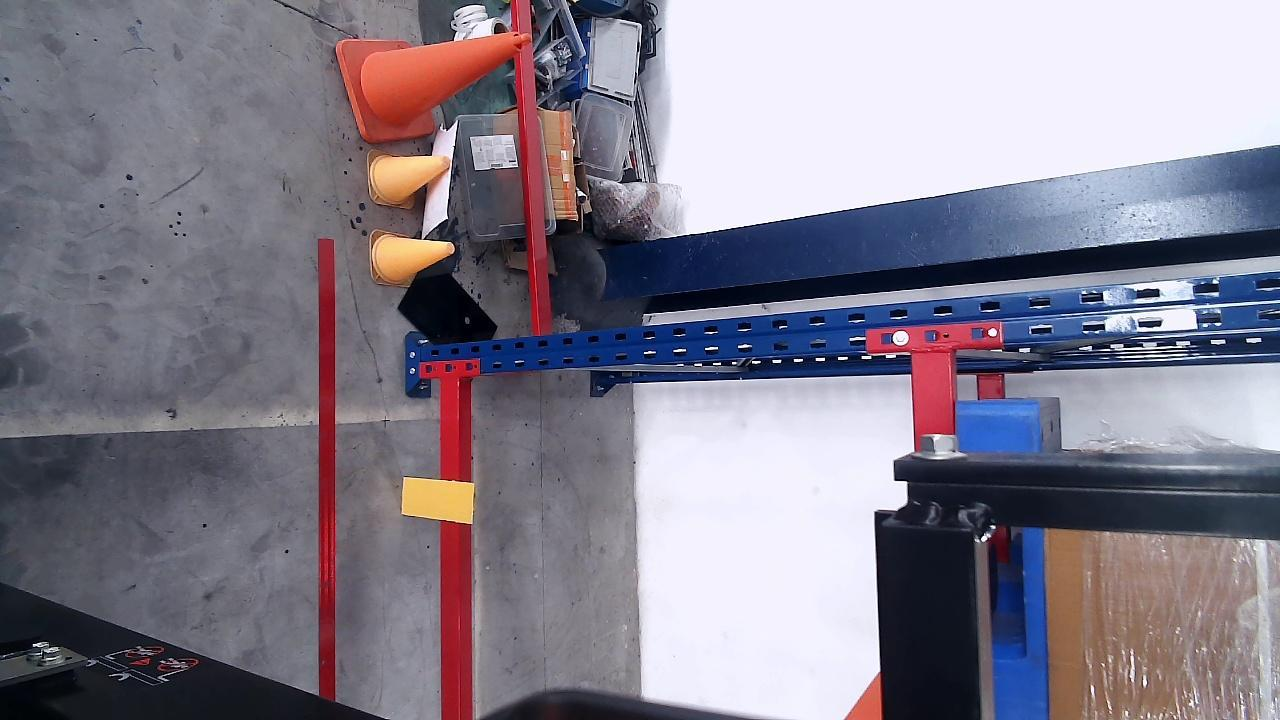h_rack: (438, 375, 471, 719)
orange_strip: (399, 478, 477, 525)
red_line: (318, 237, 338, 700)
